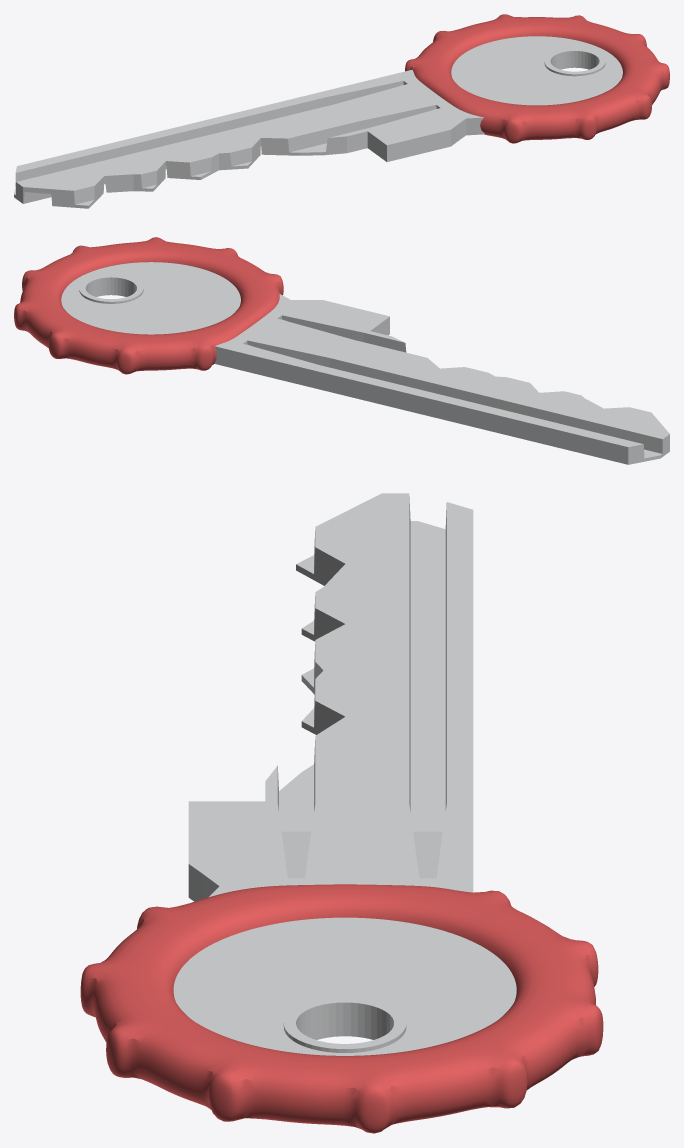
File: keyRed.fbx
3 views of the same model, one above another, from view 1: azimuth 30°, elevation 25°; view 2: azimuth 150°, elevation 25°; view 3: azimuth 270°, elevation 25° (orthographic). The views are drawn at different scales.
Parts seen in each view (by area): view 1: Cylinder.013, Cylinder.014; view 2: Cylinder.013, Cylinder.014; view 3: Cylinder.013, Cylinder.014.
Part boxes in pixels (x1,y1,x2,y2): Cylinder.013: (14,36,622,208); Cylinder.014: (405,14,669,143); Cylinder.013: (61,262,669,464); Cylinder.014: (14,237,283,374); Cylinder.013: (173,493,516,1055); Cylinder.014: (80,884,603,1133).
Size of the model in its own units: 653 by 26.02 by 239.
